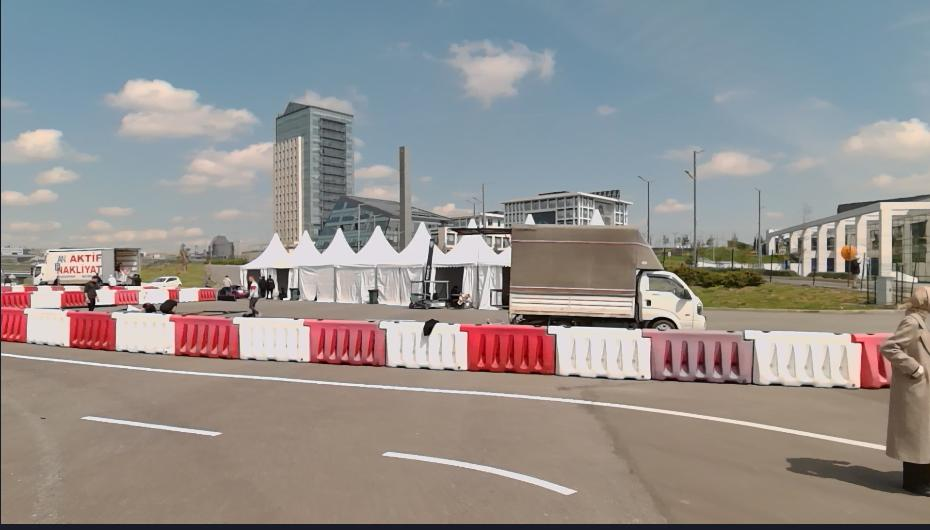nesne: (1, 348, 928, 527), (0, 347, 928, 525), (1, 349, 884, 449), (0, 393, 665, 522), (0, 310, 893, 386), (447, 225, 706, 328), (880, 278, 929, 498), (379, 448, 575, 497), (750, 332, 859, 384), (647, 329, 752, 381), (551, 325, 649, 378), (465, 323, 554, 375), (31, 247, 142, 286), (384, 323, 466, 369), (78, 411, 221, 437), (308, 319, 384, 366), (236, 317, 308, 360), (410, 239, 448, 307), (170, 317, 236, 356), (115, 311, 173, 353), (98, 286, 215, 305), (855, 334, 894, 388), (66, 310, 114, 349), (24, 311, 68, 345), (0, 308, 25, 343), (217, 275, 248, 301), (246, 273, 262, 317), (83, 276, 100, 310), (32, 292, 62, 311), (0, 292, 31, 308), (449, 282, 470, 305), (138, 290, 169, 303), (422, 316, 441, 337), (153, 275, 181, 288), (63, 291, 84, 308), (177, 288, 199, 303), (115, 291, 138, 305), (98, 290, 116, 306), (265, 271, 275, 299), (160, 299, 177, 315), (257, 273, 267, 299), (123, 303, 145, 313), (366, 287, 379, 302), (199, 288, 215, 300), (129, 273, 143, 286), (142, 299, 155, 312), (224, 275, 231, 299), (290, 285, 300, 299), (12, 283, 25, 293), (38, 284, 52, 293), (168, 289, 178, 301), (277, 285, 285, 300), (0, 285, 12, 293), (26, 286, 37, 291)
